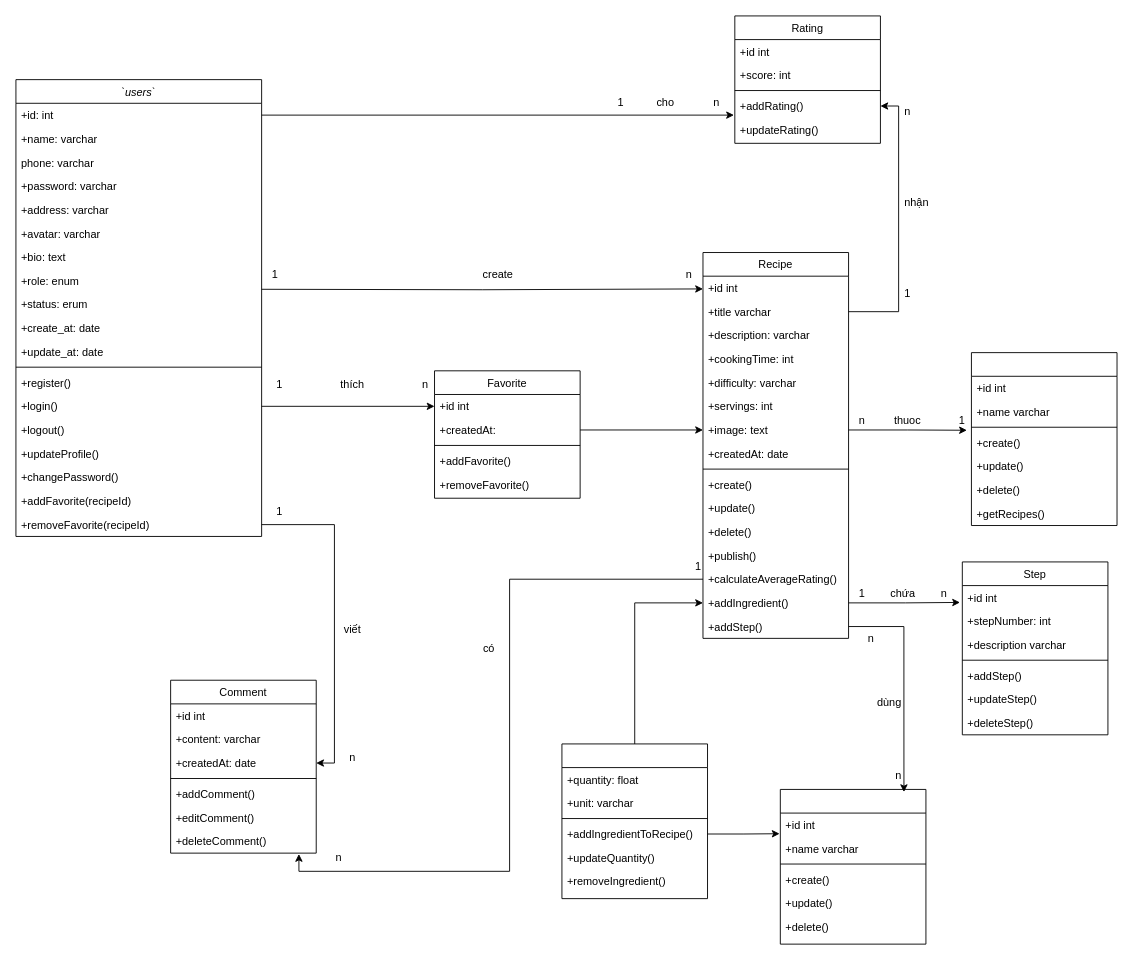
Image size: 1133x960. Some labels were removed from this diagram. The shapes that lost their labels are listed below. From the top down, each one's box as (x1, y1, x2, y2) in pixels, then its label:
(971, 352, 1117, 526): Category
(561, 743, 708, 899): RecipeIngredient
(779, 789, 926, 944): Ingredient
